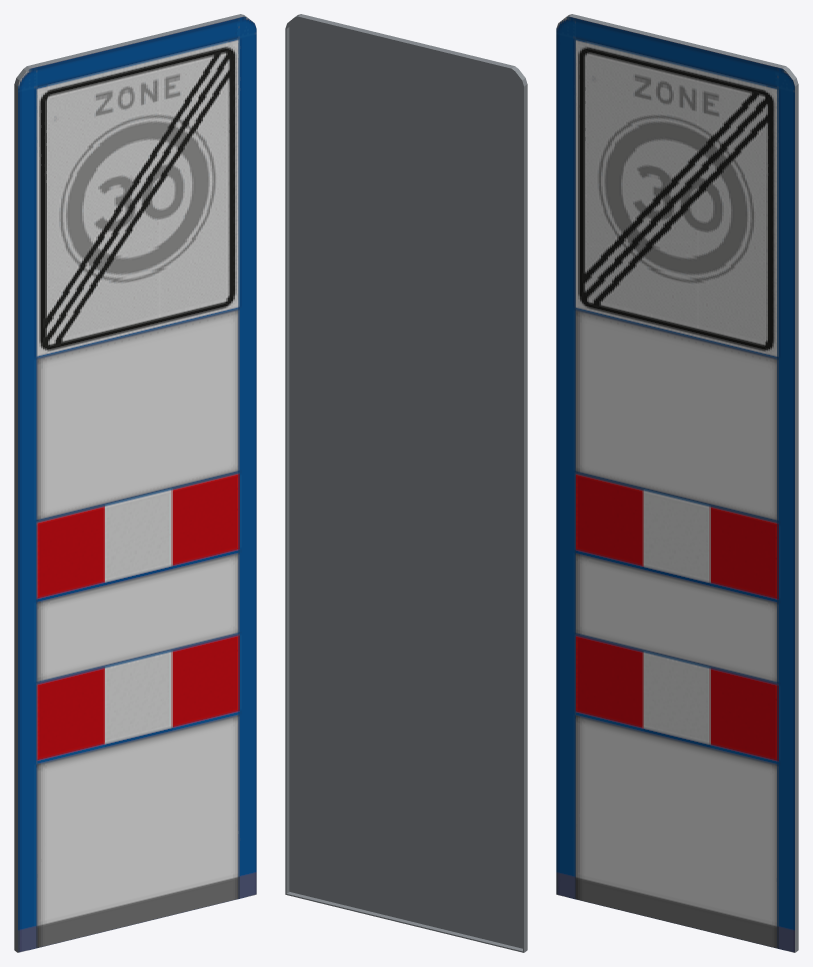
3 views of the same model, side by side, from view 1: azimuth 30°, elevation 25°; view 2: azimuth 150°, elevation 25°; view 3: azimuth 330°, elevation 25° (orthographic).
Visible parts, largest first — view 1: cat_bd018c55657fcf0c; view 2: cat_bd018c55657fcf0c; view 3: cat_bd018c55657fcf0c.
Part boxes in pixels (bbox=[...]): cat_bd018c55657fcf0c: bbox=[14, 14, 256, 952]; cat_bd018c55657fcf0c: bbox=[285, 14, 527, 952]; cat_bd018c55657fcf0c: bbox=[556, 14, 798, 952].
Bounding box in the file's own units: 0.6 × 0.015 × 2.12.
2 materials, 1 textured.
